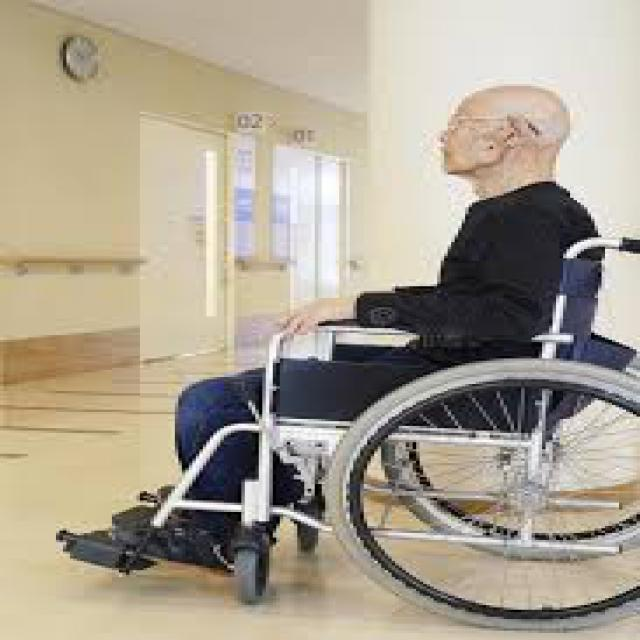wheelchairs: (46, 237, 636, 628)
